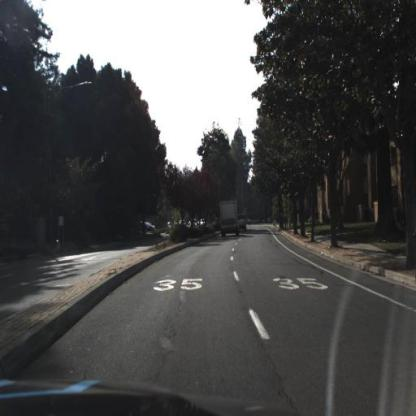truck: (217, 196, 242, 240)
